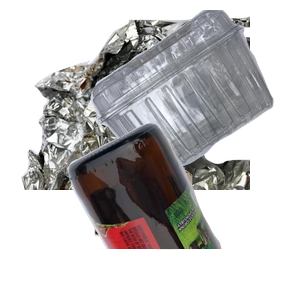glass: (66, 120, 300, 300)
metal: (19, 14, 259, 194)
plastic: (88, 10, 300, 180)
trash: (92, 158, 277, 300)
